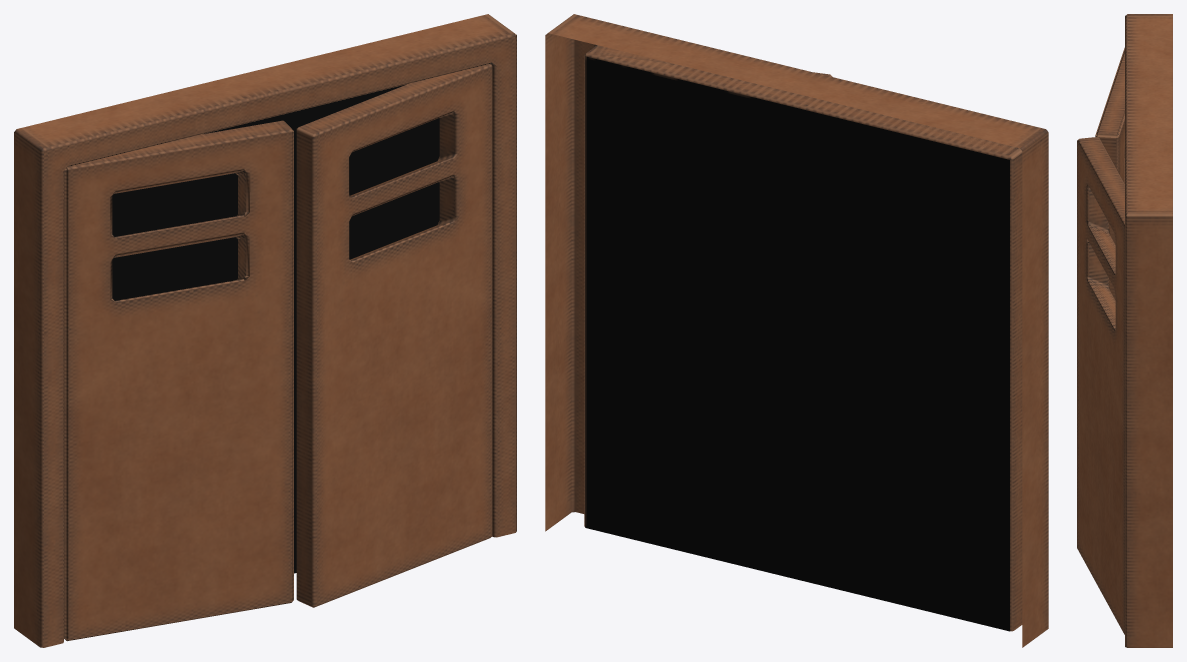
The model's file is closet.glb.
3 renders of one model, left to right at view 1: azimuth 30°, elevation 25°; view 2: azimuth 150°, elevation 25°; view 3: azimuth 270°, elevation 25°, orthographic. The views are drawn at different scales.
Parts seen in each view (by area): view 1: closet_mesh; view 2: closet_mesh; view 3: closet_mesh.
Boxes of the visible parts, x1,y1,x2,y2 form: closet_mesh: (14, 14, 516, 647); closet_mesh: (545, 14, 1048, 647); closet_mesh: (1077, 14, 1172, 647).
Bounding box in the file's own units: 2 × 2 × 0.4007.
1 material, 1 textured.
